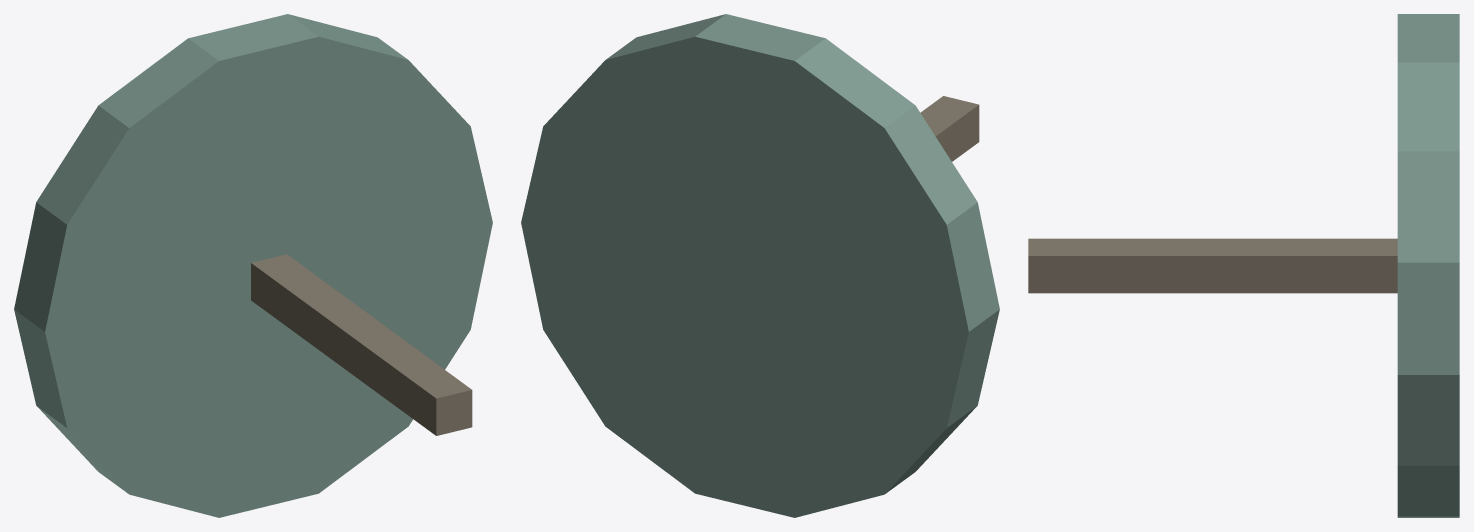
File: chain-station-eco.glb
The picture shows the model from 3 angles, left to right: view 1: azimuth 30°, elevation 25°; view 2: azimuth 150°, elevation 25°; view 3: azimuth 270°, elevation 25°; orthographic projection.
Visible parts, largest first — view 1: base, post; view 2: base, post; view 3: base, post.
Boxes of the visible parts, left/top/right/bottom form: base: left=14, top=14, right=492, bottom=517; post: left=251, top=254, right=472, bottom=435; base: left=521, top=14, right=999, bottom=517; post: left=920, top=96, right=979, bottom=161; base: left=1397, top=14, right=1459, bottom=517; post: left=1028, top=238, right=1397, bottom=293.
Bounding box in the file's own units: 1.5 × 1.46 × 1.25.
